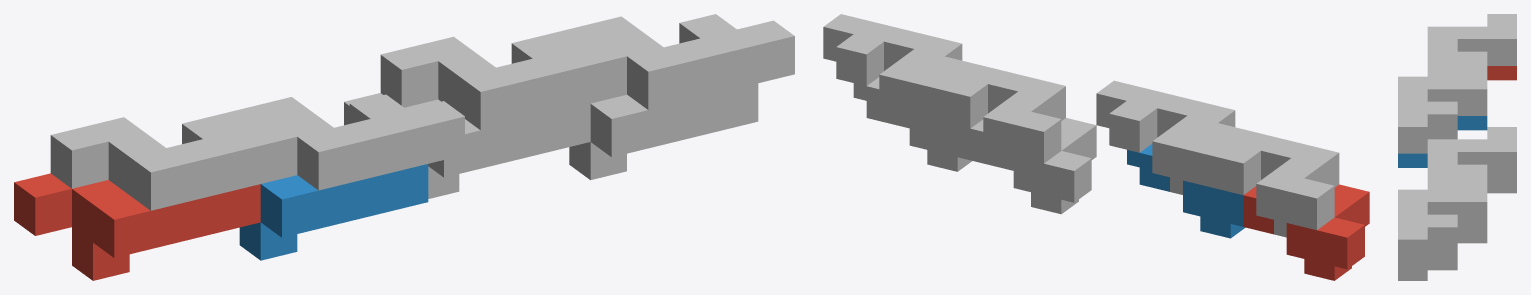
File: tiling.obj
The picture shows the model from 3 angles, left to right: view 1: azimuth 30°, elevation 25°; view 2: azimuth 150°, elevation 25°; view 3: azimuth 270°, elevation 25°; orthographic projection. The views are drawn at different scales.
Visible parts, largest first — view 1: copy_1_domain_3, copy_1_domain_7, copy_1_domain_1, copy_1_domain_4, copy_1_domain_8, copy_1_domain_2, copy_1_domain_6, copy_1_domain_5; view 2: copy_1_domain_3, copy_1_domain_7, copy_1_domain_4, copy_1_domain_8, copy_1_domain_1, copy_1_domain_5, copy_1_domain_6, copy_1_domain_2; view 3: copy_1_domain_8, copy_1_domain_4, copy_1_domain_3, copy_1_domain_7, copy_1_domain_6, copy_1_domain_2, copy_1_domain_1, copy_1_domain_5.
Part boxes in pixels (box(x1,y1,x2,y2)): copy_1_domain_3: box(50, 114, 297, 210); copy_1_domain_7: box(380, 34, 626, 130); copy_1_domain_1: box(14, 173, 260, 280); copy_1_domain_4: box(219, 94, 464, 190); copy_1_domain_8: box(548, 14, 794, 109); copy_1_domain_2: box(239, 164, 428, 260); copy_1_domain_6: box(569, 83, 758, 180); copy_1_domain_5: box(344, 93, 590, 198); copy_1_domain_3: box(1200, 123, 1339, 237); copy_1_domain_7: box(927, 56, 1065, 170); copy_1_domain_4: box(1096, 80, 1235, 194); copy_1_domain_8: box(823, 14, 962, 128); copy_1_domain_1: box(1243, 184, 1369, 280); copy_1_domain_5: box(970, 118, 1096, 214); copy_1_domain_6: box(853, 77, 971, 171); copy_1_domain_2: box(1127, 144, 1245, 238); copy_1_domain_8: box(1398, 177, 1487, 266); copy_1_domain_4: box(1398, 64, 1487, 153); copy_1_domain_3: box(1427, 14, 1516, 76); copy_1_domain_7: box(1427, 127, 1516, 189); copy_1_domain_6: box(1398, 229, 1487, 280); copy_1_domain_2: box(1398, 116, 1487, 167); copy_1_domain_1: box(1487, 66, 1516, 80); copy_1_domain_5: box(1487, 179, 1516, 193).
Size of the model in its own units: 19 by 3 by 4.
